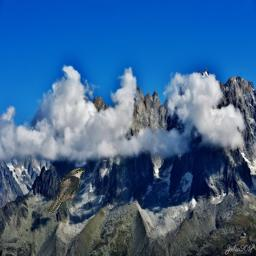Cuckoo: (46, 168, 85, 214)
